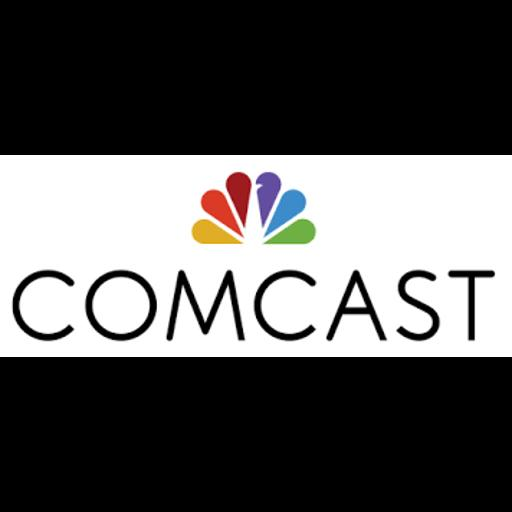Comcast Corporation: (0, 155, 512, 357)
